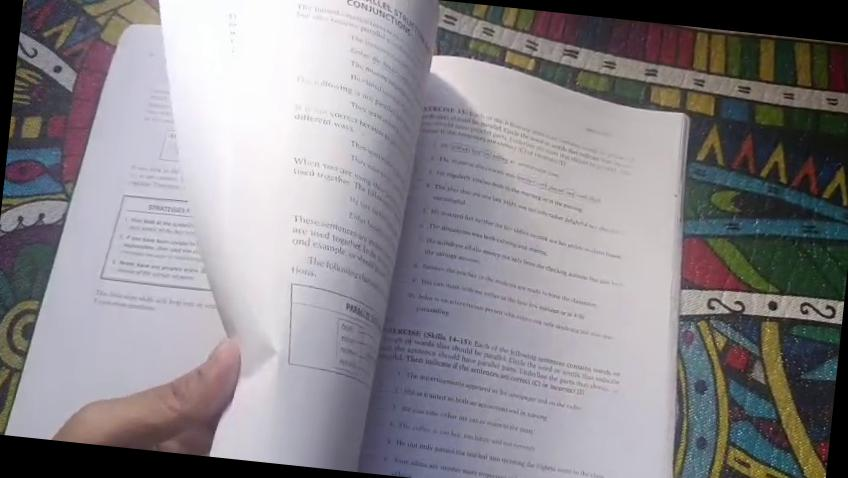Kertas: (359, 57, 686, 477), (161, 0, 437, 469), (0, 25, 223, 437)
